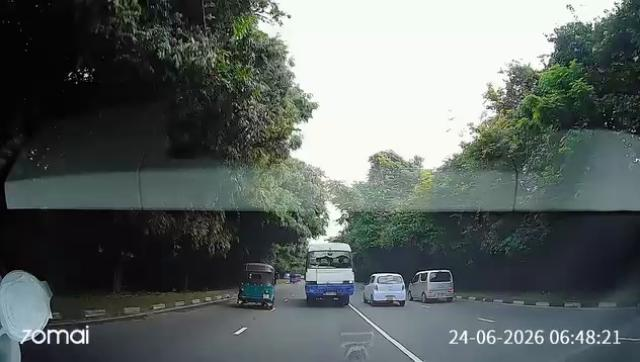illegal overtaking: (410, 265, 460, 308), (361, 272, 409, 311)
